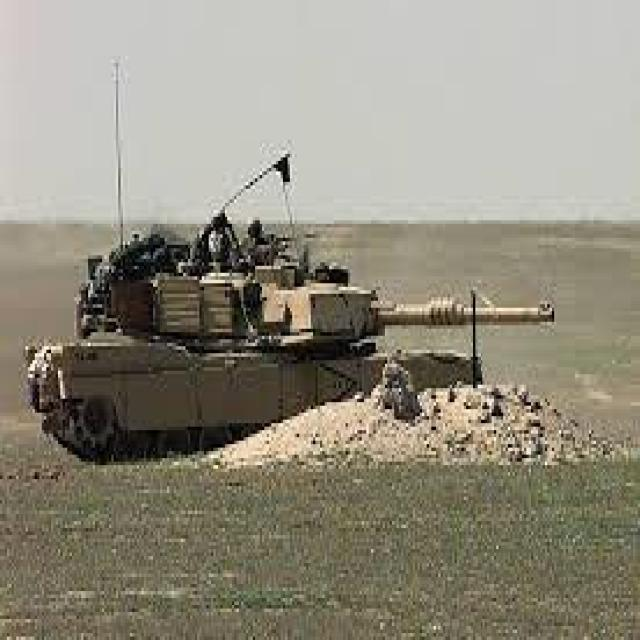MIL_MBT: (28, 175, 540, 469)
